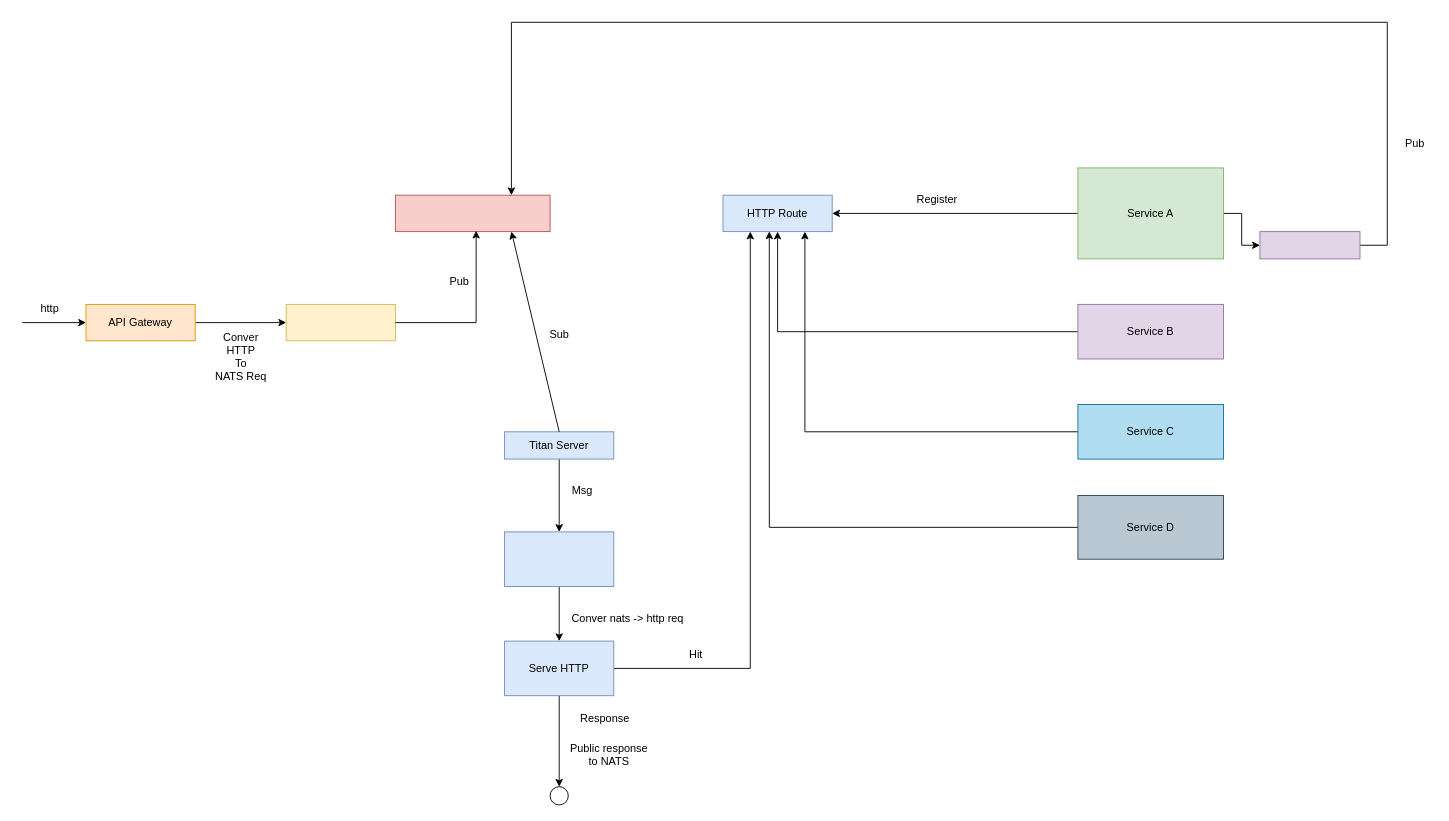
This 1449x821 diagram has some shape labels left out. The centre of each missing label's shape, as x and y in pixels:
"Handler/Callback" goes at point 559,558.
"NATS Server" goes at point 340,322.
"NATS Subject" goes at point 472,213.
"Service B Client" goes at point 1309,245.
